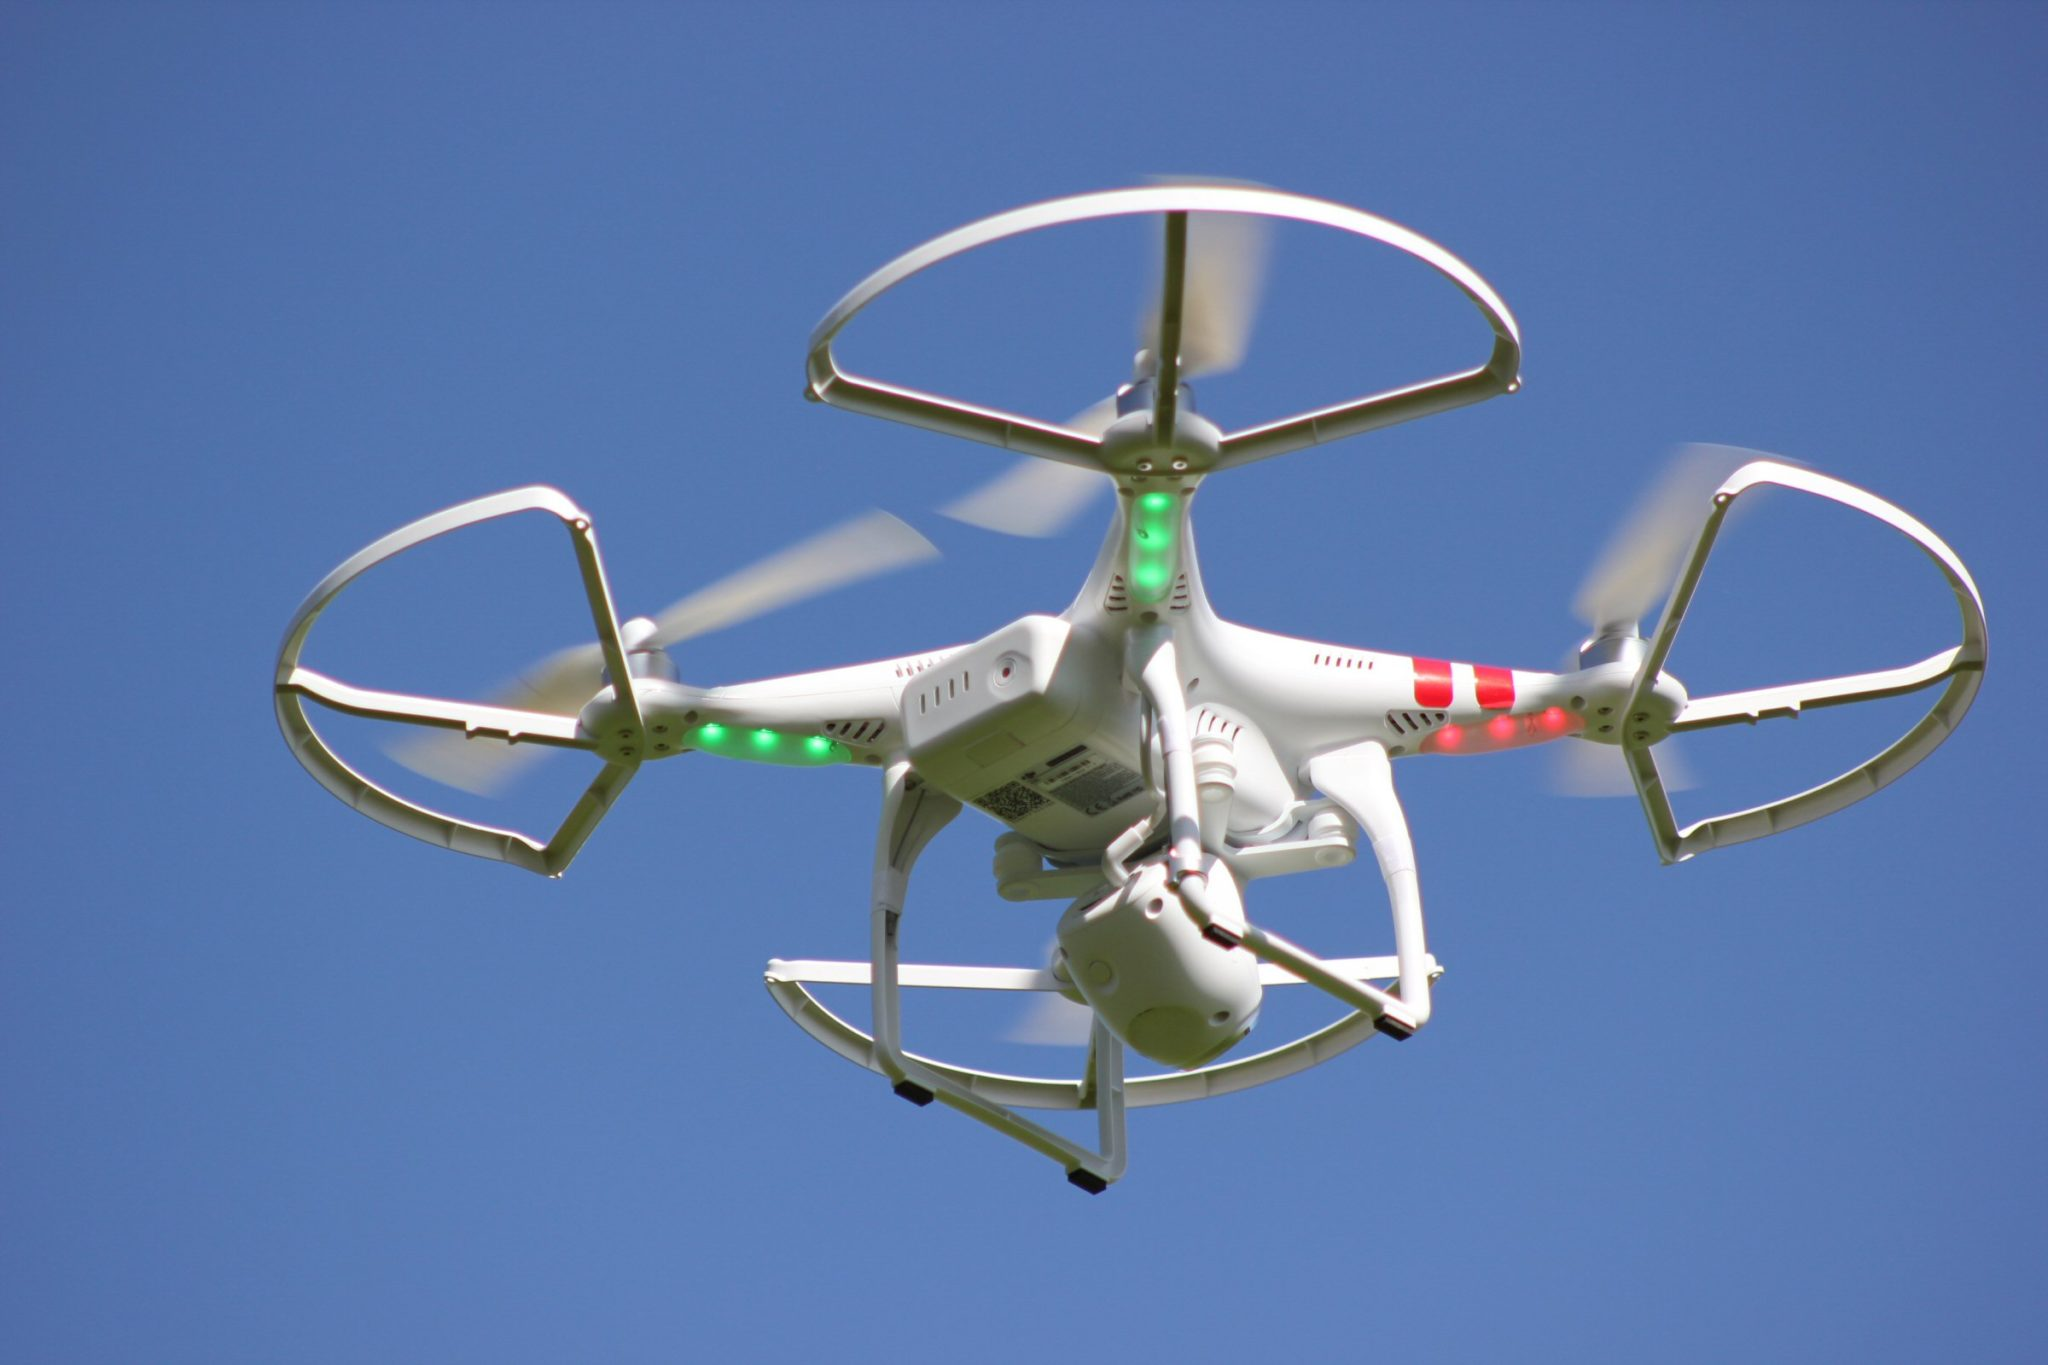drone: (266, 171, 1995, 1200)
